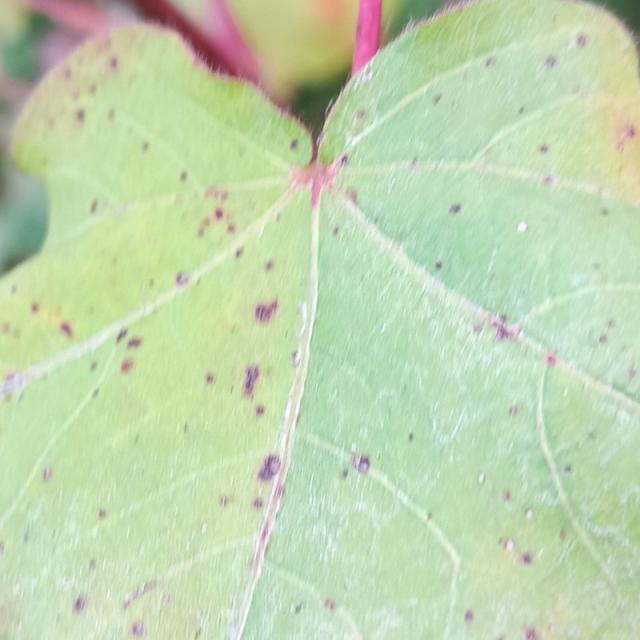Bacterial_Blight: (247, 450, 289, 524), (247, 294, 289, 326), (124, 578, 160, 608), (489, 315, 523, 342), (257, 455, 282, 481), (242, 365, 260, 397), (617, 123, 635, 153), (202, 186, 229, 203), (351, 453, 371, 473), (3, 372, 20, 393), (500, 537, 516, 553), (196, 219, 209, 238), (120, 358, 134, 374), (60, 321, 73, 338), (175, 272, 190, 286), (345, 188, 359, 203), (131, 621, 145, 636), (73, 596, 86, 612), (472, 322, 486, 336), (126, 337, 142, 349), (523, 625, 536, 639), (116, 328, 128, 343), (290, 351, 300, 368), (545, 55, 557, 69), (42, 466, 52, 482), (448, 203, 461, 215), (575, 35, 587, 48), (545, 353, 557, 366), (362, 69, 373, 83), (89, 199, 99, 214), (484, 56, 496, 68), (516, 221, 528, 233), (264, 259, 275, 272), (324, 598, 335, 611), (75, 108, 85, 122), (626, 366, 636, 380), (122, 594, 132, 608), (254, 405, 265, 417), (289, 139, 300, 151), (625, 126, 635, 139), (219, 495, 229, 508), (234, 247, 244, 260), (464, 610, 474, 623), (521, 553, 532, 564), (252, 498, 263, 509), (204, 373, 214, 385), (542, 175, 554, 185), (339, 154, 349, 166), (502, 489, 511, 502), (433, 93, 443, 104), (214, 208, 224, 219), (508, 405, 518, 416), (598, 333, 608, 344), (606, 318, 616, 329), (141, 141, 150, 153), (109, 57, 118, 69), (107, 108, 115, 121), (538, 144, 548, 154), (356, 109, 366, 119), (179, 171, 188, 182), (30, 302, 39, 313), (98, 509, 107, 520), (340, 468, 349, 479), (91, 388, 100, 399), (410, 158, 419, 169), (293, 604, 302, 615), (450, 101, 459, 112), (525, 509, 534, 520), (88, 558, 96, 570), (600, 207, 610, 216), (90, 361, 98, 372), (477, 473, 485, 484), (200, 523, 208, 534), (23, 531, 30, 543), (434, 261, 443, 270), (564, 464, 572, 474), (517, 105, 525, 115), (332, 225, 339, 236), (408, 432, 415, 442), (425, 512, 432, 521), (496, 635, 506, 640)
Cotton: (0, 0, 639, 639)
